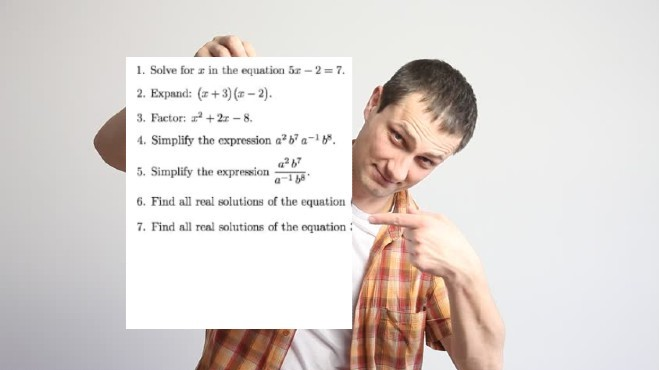questionPaper: (126, 54, 352, 329)
